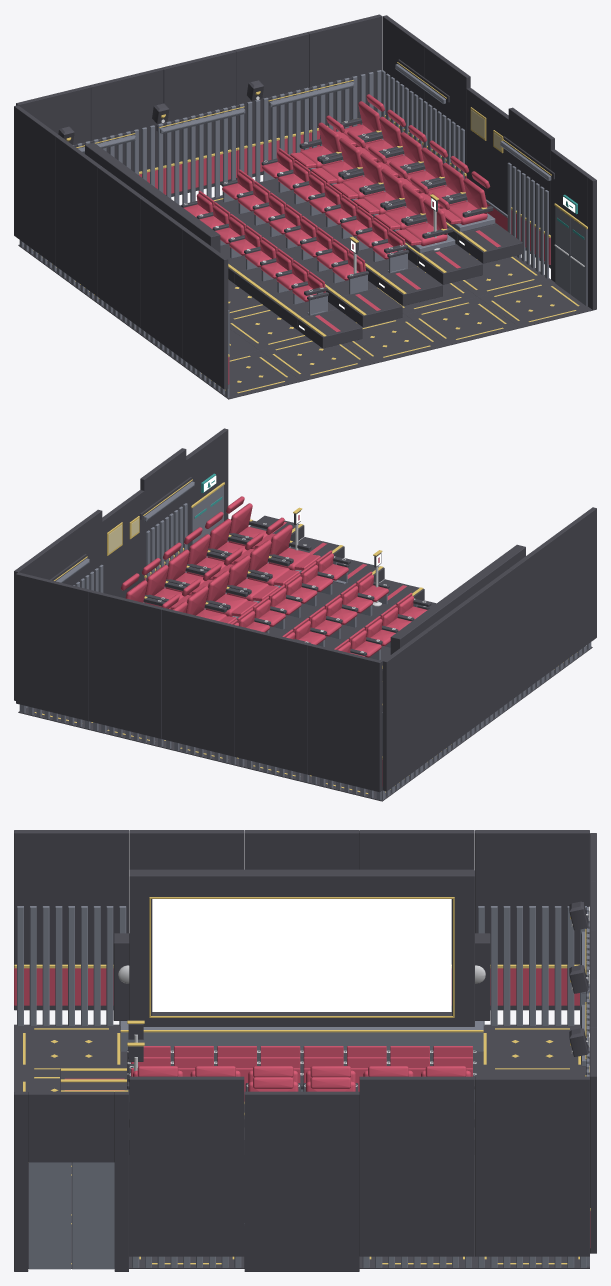
Rendered from cinema-auditorium.glb.
3 renders of one model, top to bottom at view 1: azimuth 30°, elevation 25°; view 2: azimuth 150°, elevation 25°; view 3: azimuth 270°, elevation 25°, orthographic. The views are drawn at different scales.
Visible parts, largest first — view 1: 114-acoustic-wall-panel-module0, 113-acoustic-wall-panel-module0, 112-acoustic-wall-panel-module0, 111-acoustic-wall-panel-module0, 110-acoustic-wall-panel-module0, 117-acoustic-wall-panel-module0, 118-acoustic-wall-panel-module0, 119-acoustic-wall-panel-module0, 116-acoustic-wall-panel-module0, 117-acoustic-wall-panel-module1, 013-premium-recliner-row3, 012-premium-recliner-row3 (+56 smaller); view 2: 115-acoustic-wall-panel-module0, 117-acoustic-wall-panel-module0, 118-acoustic-wall-panel-module0, 116-acoustic-wall-panel-module0, 119-acoustic-wall-panel-module0, 110-acoustic-wall-panel-module0, 111-acoustic-wall-panel-module0, 112-acoustic-wall-panel-module0, 113-acoustic-wall-panel-module0, 114-acoustic-wall-panel-module0, 013-premium-recliner-row3, 122-projection-port-panel0 (+23 smaller); view 3: 018-cinema-screen-and-masking2, 018-cinema-screen-and-masking1, 121-acoustic-wall-panel-module0, 123-acoustic-wall-panel-module0, 122-projection-port-panel0, 120-acoustic-wall-panel-module0, 114-acoustic-wall-panel-module0, 110-acoustic-wall-panel-module0, 124-exit-door-module0, 114-acoustic-wall-panel-module1, 110-acoustic-wall-panel-module1, 018-cinema-screen-and-masking0 (+26 smaller).
Part boxes in pixels (x1,y1,x2,y2): 114-acoustic-wall-panel-module0: (182,228,228,389); 113-acoustic-wall-panel-module0: (140,197,185,358); 112-acoustic-wall-panel-module0: (98,167,143,327); 111-acoustic-wall-panel-module0: (56,136,101,296); 110-acoustic-wall-panel-module0: (14,105,59,265); 117-acoustic-wall-panel-module0: (162,50,236,196); 118-acoustic-wall-panel-module0: (234,32,309,179); 119-acoustic-wall-panel-module0: (307,14,382,130); 116-acoustic-wall-panel-module0: (88,68,163,171); 117-acoustic-wall-panel-module1: (166,105,235,204); 013-premium-recliner-row3: (353,161,449,246); 012-premium-recliner-row3: (290,115,386,199); 115-acoustic-wall-panel-module0: (307,643,382,792); 117-acoustic-wall-panel-module0: (161,608,236,756); 118-acoustic-wall-panel-module0: (88,590,163,738); 116-acoustic-wall-panel-module0: (234,625,309,774); 119-acoustic-wall-panel-module0: (16,572,90,721); 110-acoustic-wall-panel-module0: (382,630,428,791); 111-acoustic-wall-panel-module0: (425,599,470,760); 112-acoustic-wall-panel-module0: (467,569,512,729); 113-acoustic-wall-panel-module0: (509,538,554,698); 114-acoustic-wall-panel-module0: (551,507,596,667); 013-premium-recliner-row3: (224,517,320,601); 122-projection-port-panel0: (102,490,144,598); 018-cinema-screen-and-masking2: (152,899,451,1011); 018-cinema-screen-and-masking1: (113,869,490,1026); 121-acoustic-wall-panel-module0: (359,1076,474,1256); 123-acoustic-wall-panel-module0: (129,1076,244,1256); 122-projection-port-panel0: (244,1091,359,1271); 120-acoustic-wall-panel-module0: (475,1076,589,1256); 114-acoustic-wall-panel-module0: (14,830,128,1010); 110-acoustic-wall-panel-module0: (475,830,589,1010); 124-exit-door-module0: (14,1091,128,1271); 114-acoustic-wall-panel-module1: (17,906,126,1025); 110-acoustic-wall-panel-module1: (478,906,586,1025); 018-cinema-screen-and-masking0: (120,1021,483,1051).
Bounding box in the file's own units: 10.24 × 3.69 × 10.12.
